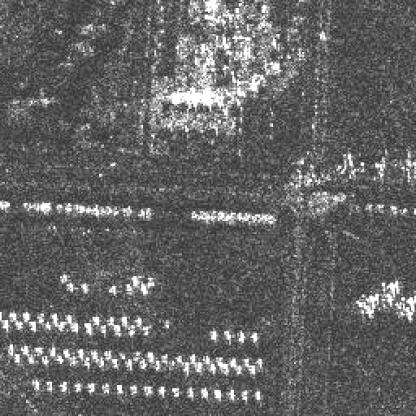airplane: (83, 354, 93, 368), (47, 343, 59, 354), (252, 388, 262, 400), (236, 330, 245, 343), (239, 388, 247, 402), (113, 382, 124, 392), (125, 356, 135, 367), (28, 353, 38, 364), (136, 283, 146, 294), (245, 364, 255, 374), (40, 354, 50, 364), (20, 344, 30, 354), (106, 315, 116, 325), (57, 271, 67, 281), (107, 283, 116, 294), (101, 380, 109, 392), (86, 380, 94, 392), (154, 357, 162, 369), (146, 349, 154, 361), (76, 346, 84, 358), (6, 342, 14, 354), (110, 356, 119, 366), (27, 320, 36, 330), (226, 387, 234, 398), (58, 379, 66, 390), (44, 379, 52, 390), (31, 377, 39, 388), (91, 348, 99, 359), (13, 351, 21, 362), (210, 330, 218, 341), (144, 275, 152, 286), (128, 273, 136, 284), (99, 354, 106, 366), (249, 332, 258, 341), (200, 385, 208, 395), (187, 385, 195, 395), (170, 385, 178, 395), (141, 384, 151, 392), (73, 380, 81, 390), (214, 356, 222, 366), (134, 349, 142, 359), (68, 354, 76, 364), (62, 346, 70, 356), (91, 316, 101, 324), (83, 322, 91, 332), (70, 322, 80, 330), (55, 322, 65, 330), (21, 310, 29, 320), (0, 320, 10, 328), (51, 312, 58, 323), (254, 358, 262, 367), (140, 358, 148, 367), (118, 351, 127, 359), (65, 280, 73, 289), (141, 325, 148, 335), (13, 320, 23, 327), (80, 283, 86, 294), (158, 384, 166, 392), (128, 384, 136, 392), (240, 358, 248, 366), (202, 356, 210, 364), (104, 350, 112, 358), (120, 316, 128, 324), (112, 324, 120, 332), (99, 324, 107, 332), (8, 312, 16, 320), (124, 283, 132, 291), (212, 387, 219, 396), (229, 358, 236, 367), (234, 364, 240, 374), (221, 362, 227, 372), (208, 362, 214, 372), (189, 354, 195, 364), (223, 330, 229, 340), (56, 354, 63, 362), (34, 346, 42, 353), (134, 315, 142, 322), (37, 312, 44, 320), (195, 361, 201, 369), (182, 364, 188, 372), (174, 356, 182, 362), (127, 327, 135, 333), (65, 314, 71, 322), (46, 320, 51, 328)
